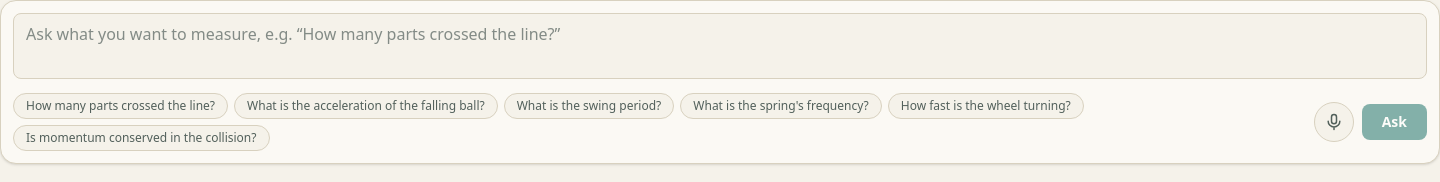
Scenario: voice input › releases the microphone if the page is left while recording
The width and height of the screenshot is (1440, 182).
Step 1. Click the button named "Speak your question" → click(1334, 122), box [1314,102,1354,142]
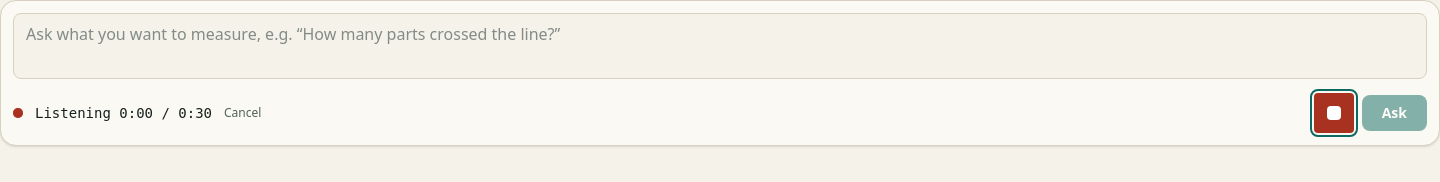
Now the button named "Stop recording" is shown, box [1314,93,1354,133]
